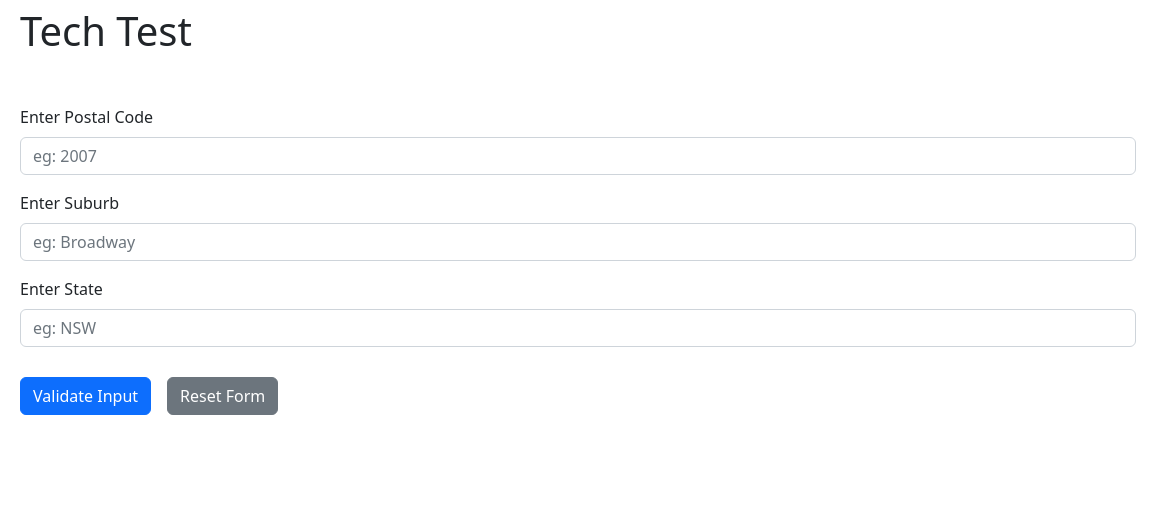
empty spec › Reset Form button check
Click the button "Validate Input".
click(86, 396)  # box [20,377,151,415]
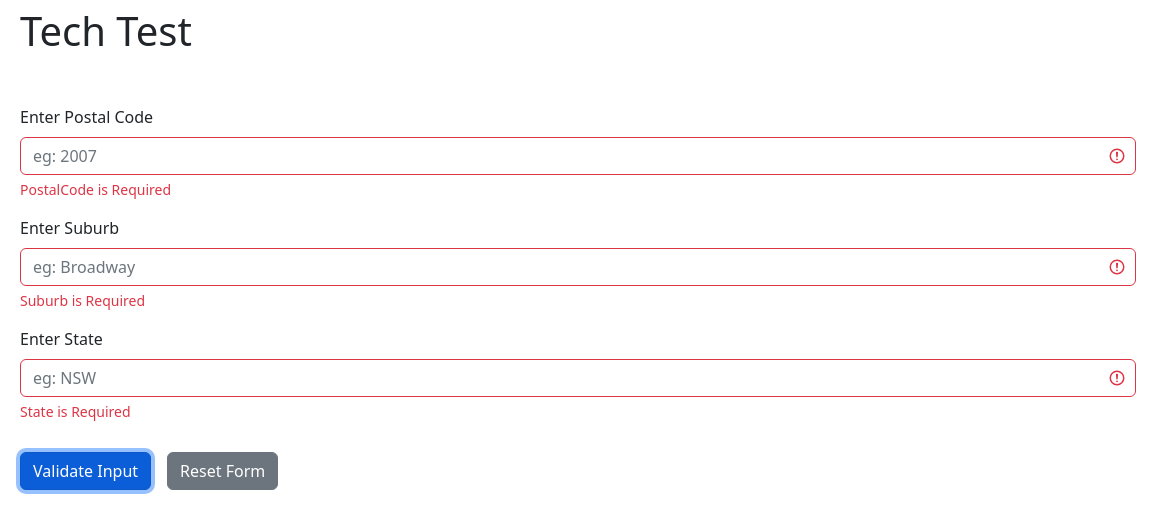
Click the button "Reset Form".
click(223, 471)  # box [167,452,278,490]
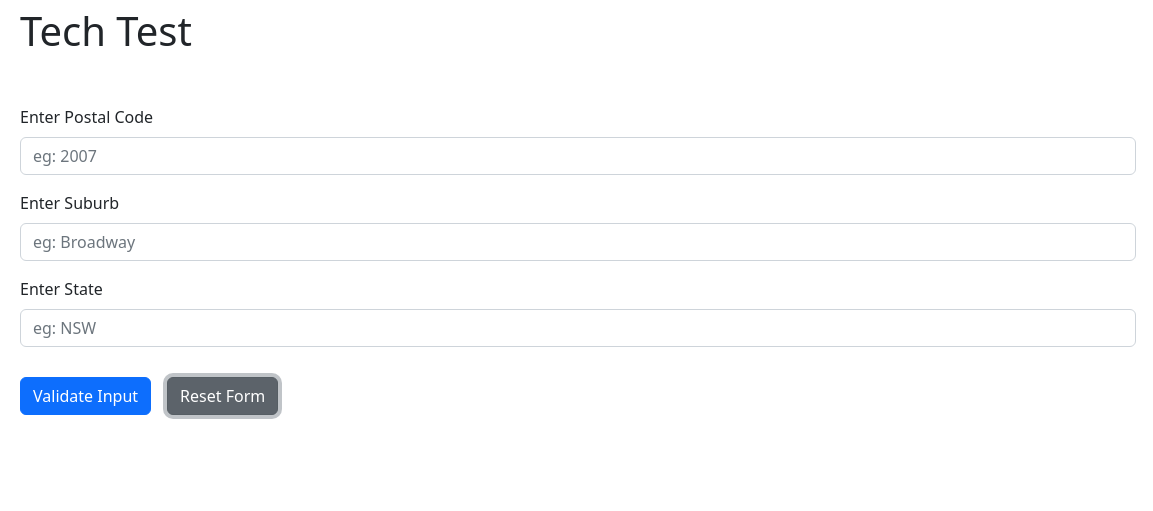
Check: the text with class "invalid-feedback" is gone
